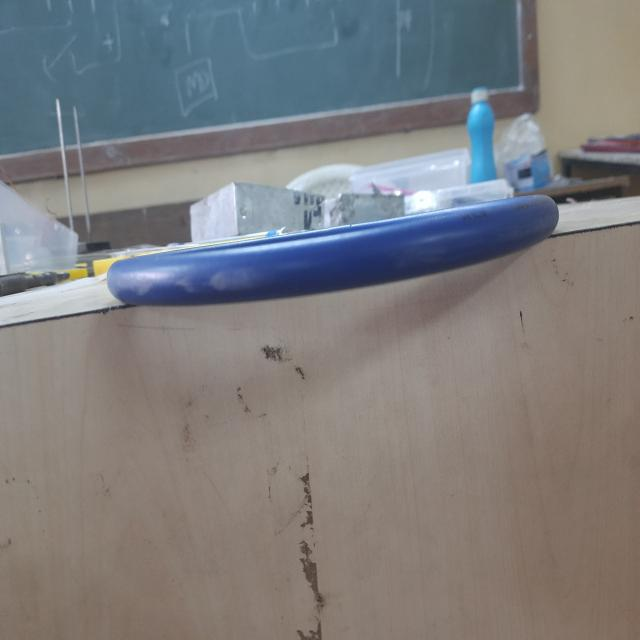daire: (111, 197, 556, 302)
